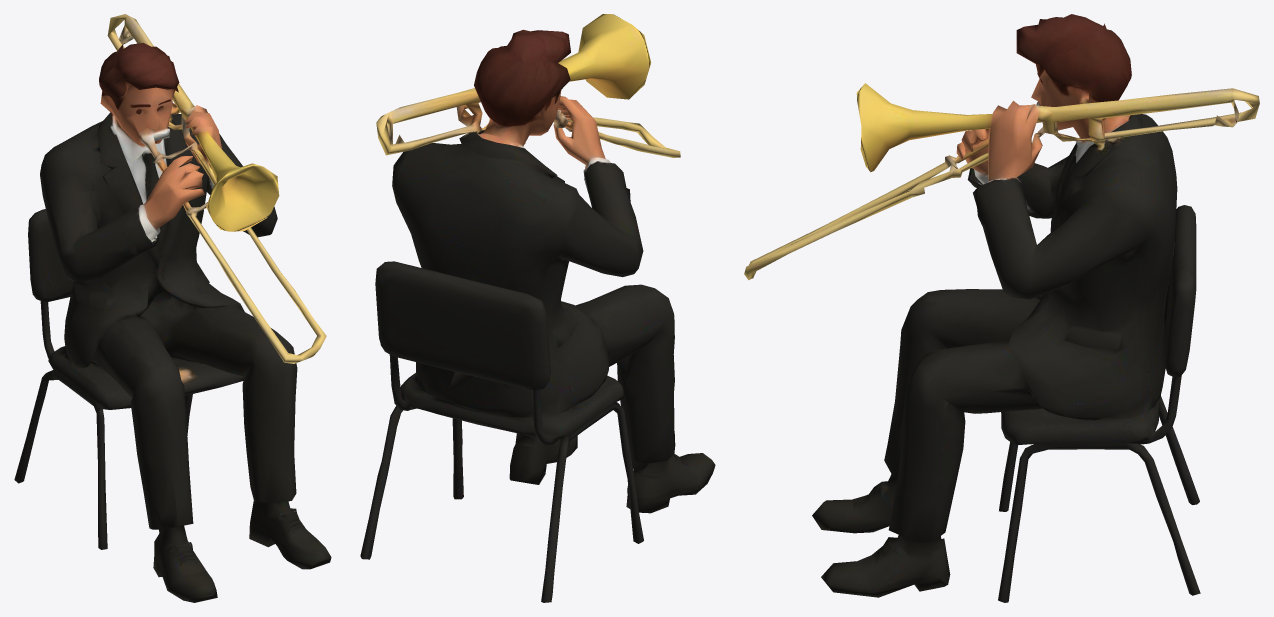
File: trombonist.glb
3 views of the same model, side by side, from view 1: azimuth 30°, elevation 25°; view 2: azimuth 150°, elevation 25°; view 3: azimuth 270°, elevation 25° (orthographic). The views are drawn at different scales.
Visible parts, largest first — view 1: tripo_node_b200f7da-288d-405d-959c-fa9436add5f2; view 2: tripo_node_b200f7da-288d-405d-959c-fa9436add5f2; view 3: tripo_node_b200f7da-288d-405d-959c-fa9436add5f2.
Part boxes in pixels (x1=…): tripo_node_b200f7da-288d-405d-959c-fa9436add5f2: x1=14, y1=14, x2=331, y2=602; tripo_node_b200f7da-288d-405d-959c-fa9436add5f2: x1=360, y1=14, x2=715, y2=602; tripo_node_b200f7da-288d-405d-959c-fa9436add5f2: x1=744, y1=14, x2=1259, y2=602.
Bounding box in the file's own units: 0.5735 × 1.25 × 1.1.
Materials: 1 (1 with a texture image).
